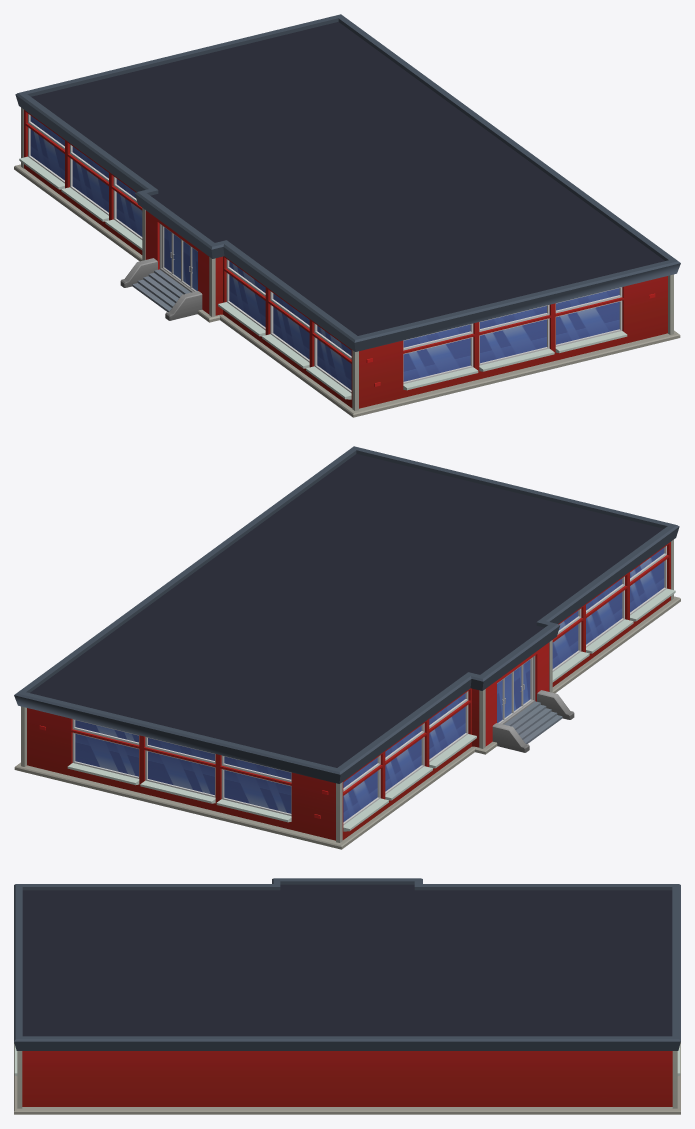
The model's file is Building_16_1_F.fbx.
3 renders of one model, top to bottom at view 1: azimuth 30°, elevation 25°; view 2: azimuth 150°, elevation 25°; view 3: azimuth 270°, elevation 25°, orthographic.
Visible parts, largest first — view 1: Building_16_1_F; view 2: Building_16_1_F; view 3: Building_16_1_F.
Boxes of the visible parts, box(x1,y1,x2,y2) form: Building_16_1_F: box(14, 14, 680, 417); Building_16_1_F: box(14, 446, 680, 849); Building_16_1_F: box(14, 878, 680, 1114).
Bounding box in the file's own units: 1888 × 375 × 3026.
